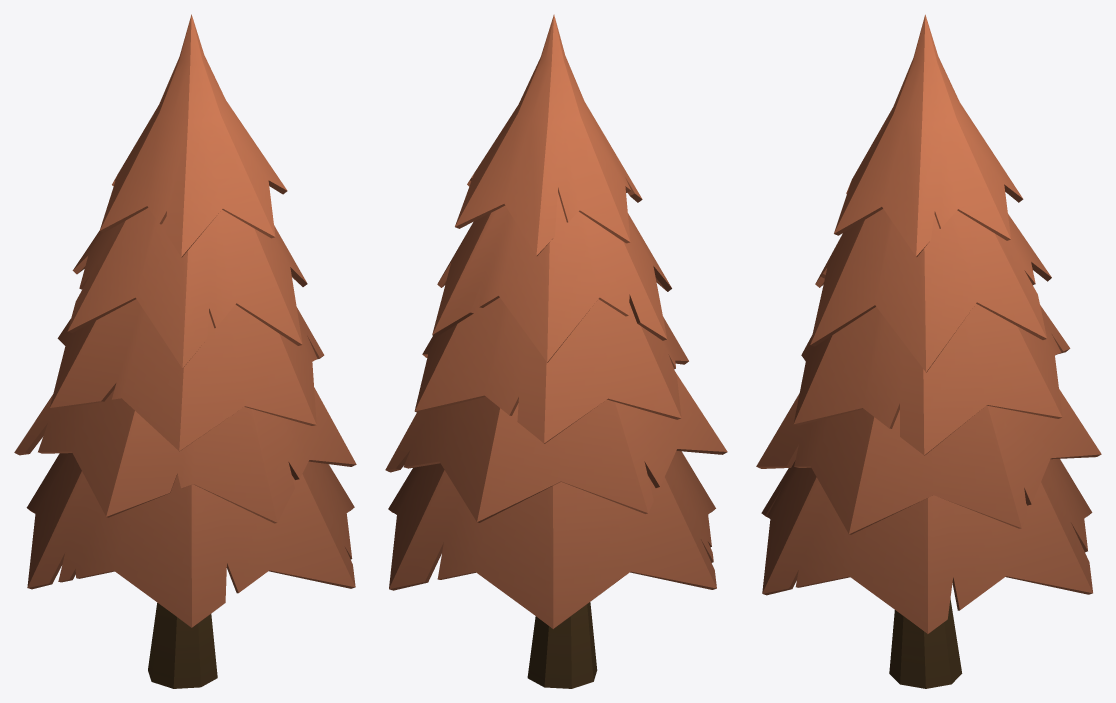
File: Autumn_Tree_02.glb
3 renders of one model, left to right at view 1: azimuth 30°, elevation 25°; view 2: azimuth 150°, elevation 25°; view 3: azimuth 270°, elevation 25°, orthographic.
Parts seen in each view (by area): view 1: Autumn_Tree_02_LOD0; view 2: Autumn_Tree_02_LOD0; view 3: Autumn_Tree_02_LOD0.
Boxes of the visible parts, x1,y1,x2,y2 form: Autumn_Tree_02_LOD0: [14, 14, 356, 688]; Autumn_Tree_02_LOD0: [385, 14, 727, 688]; Autumn_Tree_02_LOD0: [756, 14, 1101, 688].
Size of what is drawn, in the model's own units: 1.92 by 3.67 by 1.73.
1 material, 1 textured.
